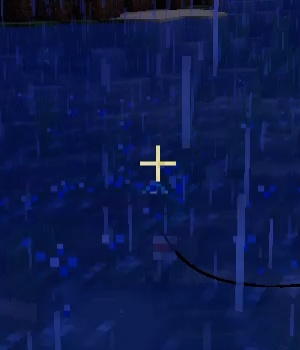up: (144, 186, 170, 197)
